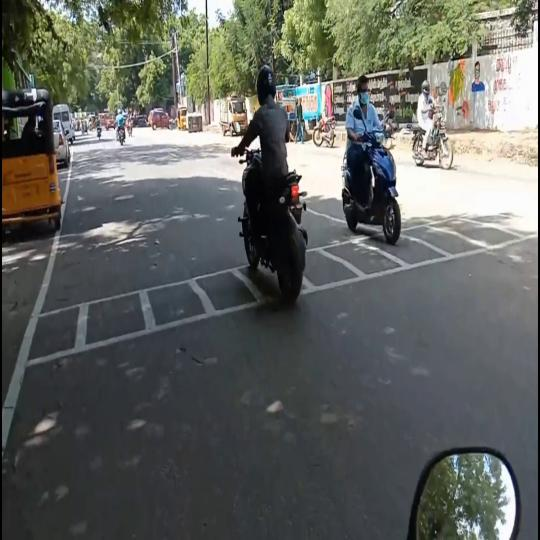Speed Bump: (2, 267, 252, 363), (402, 204, 538, 267), (309, 234, 384, 290)
